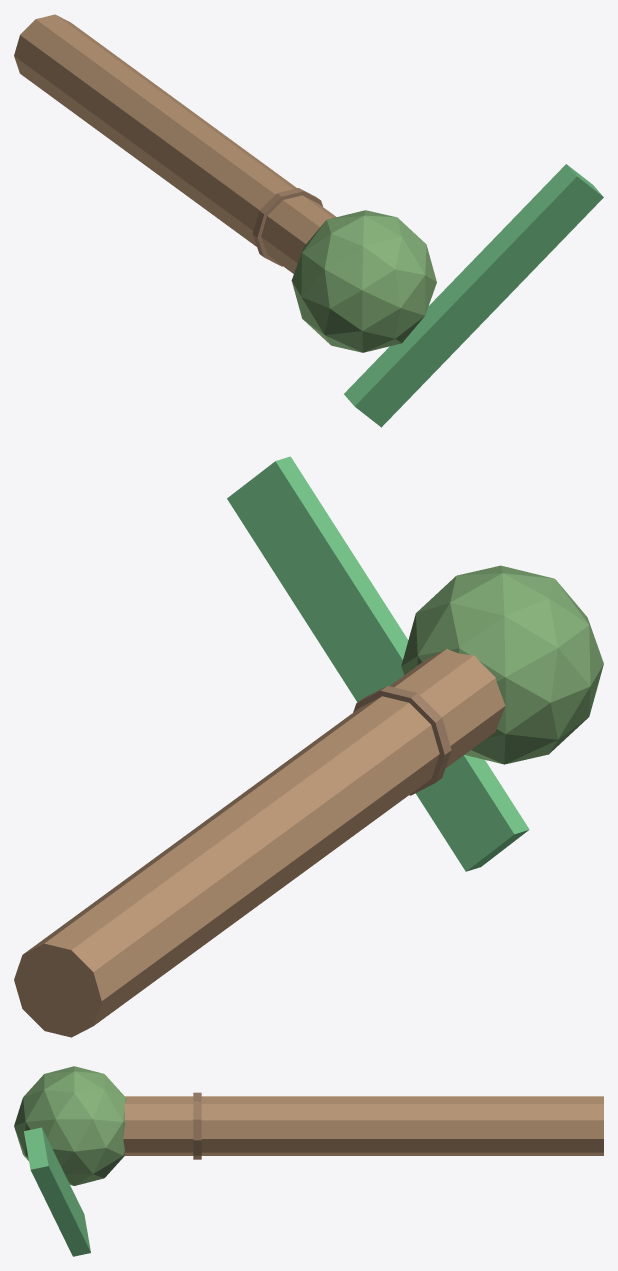
Rendered from env_palm_tree_short.glb.
The picture shows the model from 3 angles, top to bottom: view 1: azimuth 30°, elevation 25°; view 2: azimuth 150°, elevation 25°; view 3: azimuth 270°, elevation 25°; orthographic projection. The views are drawn at different scales.
Visible parts, largest first — view 1: trunk, leaf, crown, trunk_ring; view 2: trunk, leaf, crown, trunk_ring; view 3: trunk, crown, leaf, trunk_ring.
Boxes of the visible parts, box(x1,y1,x2,y2) form: trunk: box(14, 14, 336, 273); leaf: box(344, 164, 603, 427); crown: box(291, 210, 436, 352); trunk_ring: box(252, 188, 322, 266); trunk: box(14, 648, 505, 1037); leaf: box(227, 456, 529, 871); crown: box(401, 565, 603, 764); trunk_ring: box(353, 686, 451, 795); trunk: box(123, 1096, 603, 1155); crown: box(14, 1066, 126, 1185); leaf: box(24, 1127, 90, 1256); trunk_ring: box(193, 1092, 201, 1159).
Bounding box in the file's own units: 1.14 × 0.9343 × 2.54.
